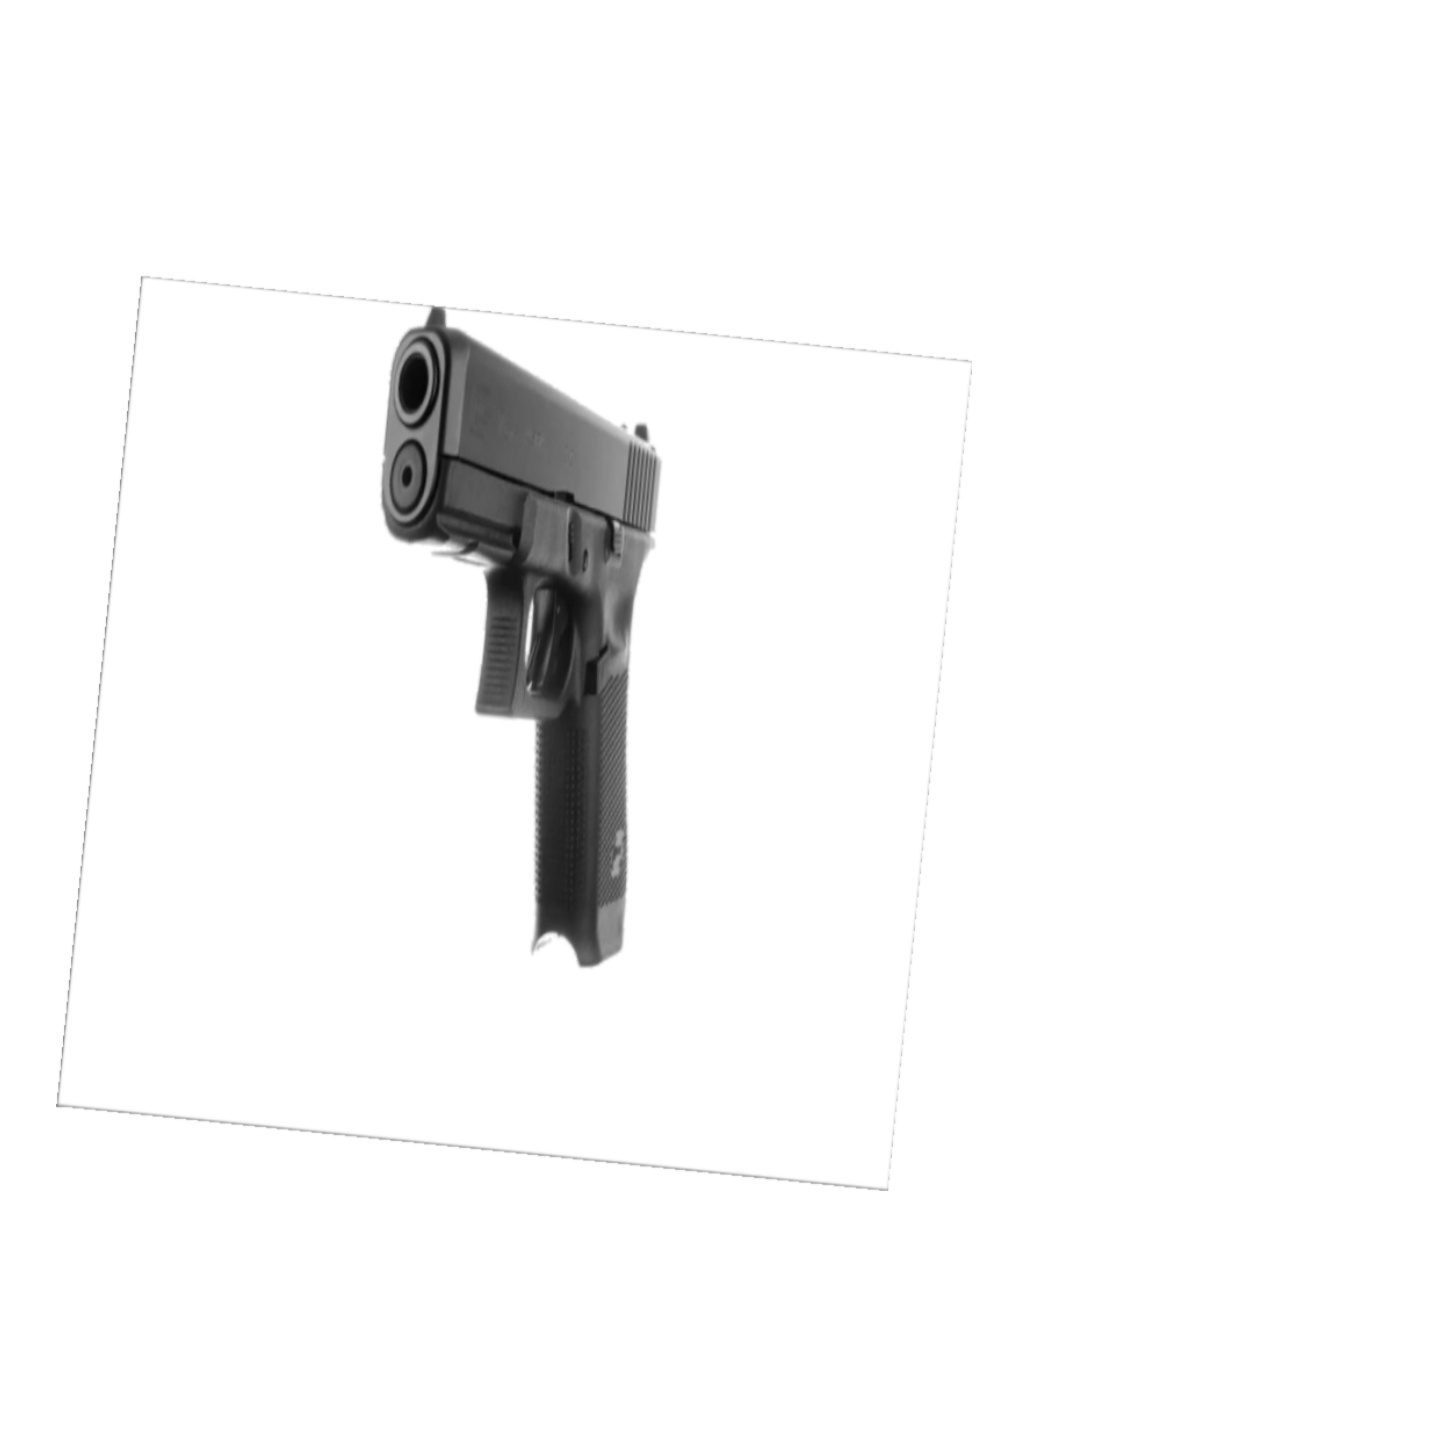gun: (377, 306, 662, 965)
